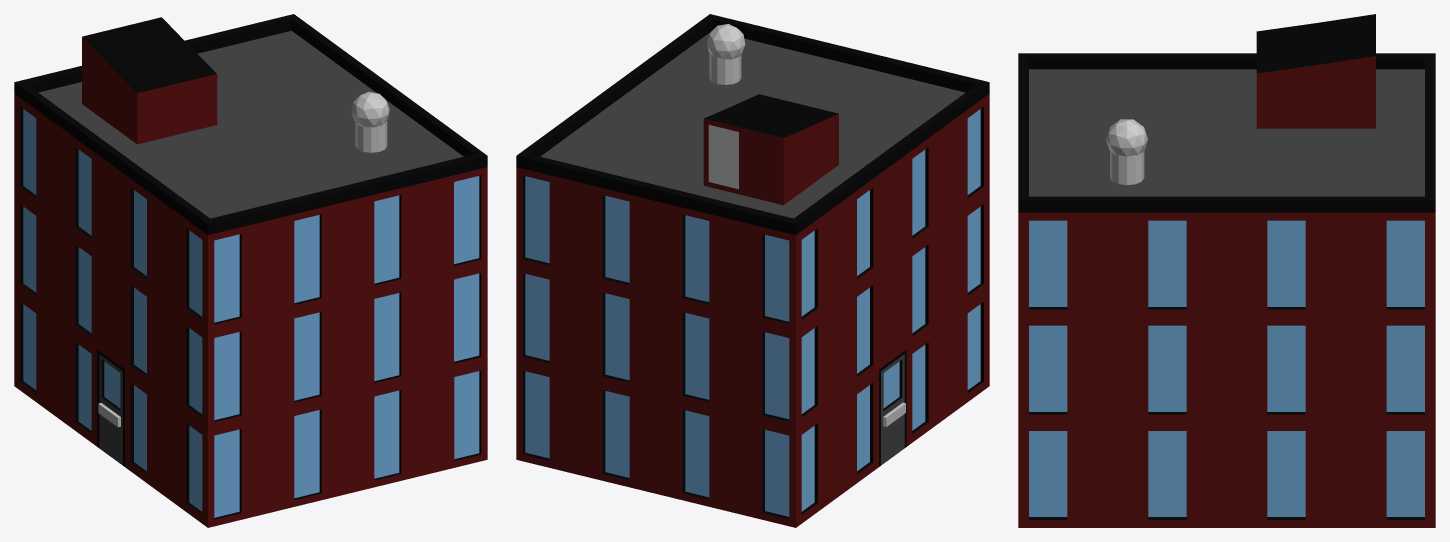
Rendered from Batiment.fbx.
3 renders of one model, left to right at view 1: azimuth 30°, elevation 25°; view 2: azimuth 150°, elevation 25°; view 3: azimuth 270°, elevation 25°, orthographic. The views are drawn at different scales.
Visible parts, largest first — view 1: Batiment; view 2: Batiment; view 3: Batiment.
Boxes of the visible parts, x1=… form: Batiment: x1=14, y1=14, x2=487, y2=527; Batiment: x1=516, y1=14, x2=989, y2=527; Batiment: x1=1018, y1=14, x2=1435, y2=527.
Size of the model in its own units: 1012 by 1230 by 1200.
